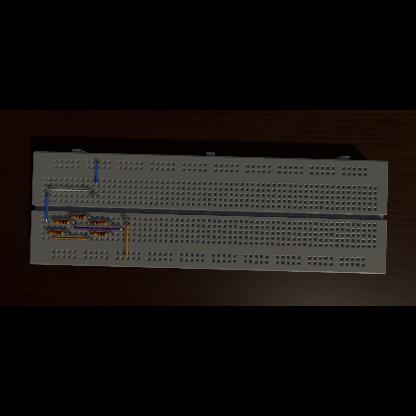breadboard: (30, 150, 388, 274)
resistor: (71, 215, 87, 219), (55, 220, 71, 224), (92, 221, 108, 225), (49, 231, 65, 235), (92, 232, 108, 236)
wire: (48, 188, 94, 192), (52, 236, 92, 240), (74, 228, 124, 231), (126, 223, 130, 259), (46, 194, 51, 222), (95, 162, 99, 186), (122, 218, 130, 220), (70, 221, 76, 223), (108, 222, 114, 224), (64, 232, 70, 234), (107, 233, 113, 235), (90, 222, 92, 224), (90, 233, 92, 235), (91, 196, 99, 196), (48, 232, 48, 234)
